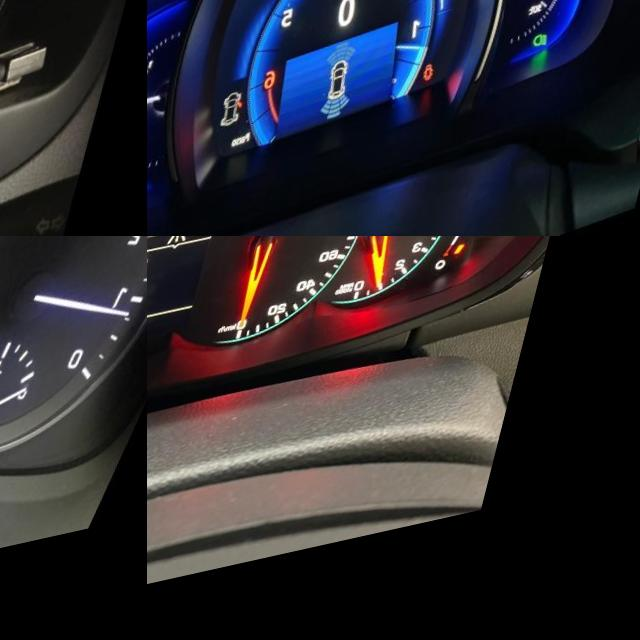Doors: (443, 78, 457, 98)
Low beam: (551, 52, 571, 73)
